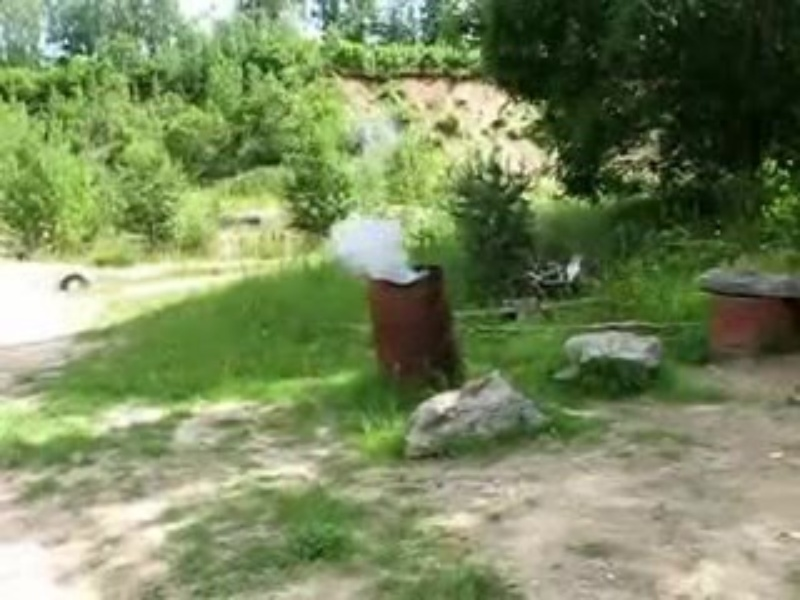smoke: (334, 214, 412, 280)
